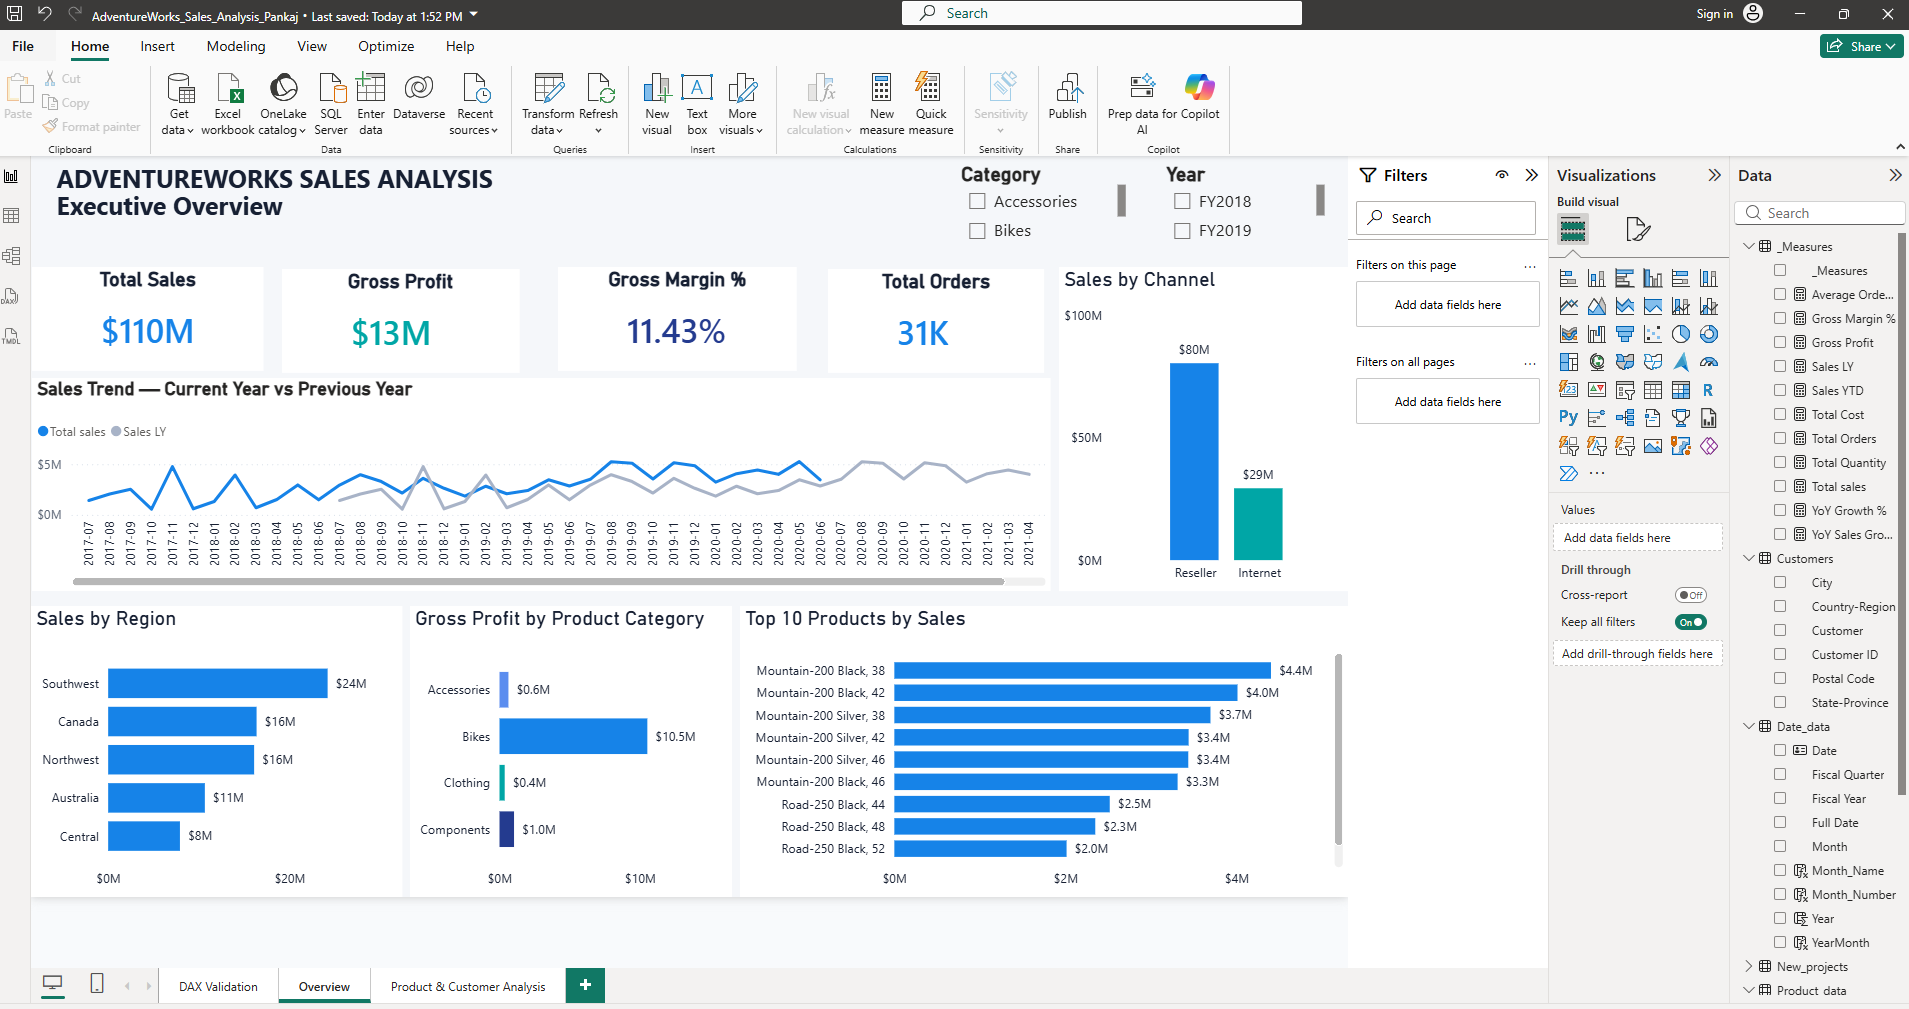

This screenshot's page, from the dashboard's own definition file:
{"tool":"powerbi","page":{"name":"Overview","canvas":[1280,720],"ordinal":1},"visuals":[{"type":"textbox","box":[0,0,1279.7,101.2],"z":0},{"type":"cardVisual","title":"Total Sales","fields":{"Data":["_Measures.Total sales"]},"box":[1,107.9,225,101.1],"z":1000},{"type":"cardVisual","title":"Gross Profit","fields":{"Data":["_Measures.Gross Profit"]},"box":[244.3,110.2,230.7,101.1],"z":2000},{"type":"cardVisual","title":"Gross Margin %","fields":{"Data":["_Measures.Gross Margin %"]},"box":[512.2,107.9,231.8,101.1],"z":3000},{"type":"cardVisual","title":"Total Orders","fields":{"Data":["_Measures.Total Orders"]},"box":[774.6,109.8,210.2,101.1],"z":4000},{"type":"clusteredBarChart","title":"Sales by Region","fields":{"Category":["Sales Territory.Region"],"Y":["_Measures.Total sales"]},"box":[0,437.4,360.6,282.8],"z":5000},{"type":"clusteredColumnChart","title":"Sales by Channel","fields":{"Category":["Sales_data.Sales Channel"],"Y":["_Measures.Total sales"]},"box":[999.1,107.9,280.9,314.9],"z":6000},{"type":"clusteredBarChart","title":"Top 10 Products by Sales","fields":{"Category":["Product_data.Product"],"Y":["_Measures.Total sales"]},"box":[689.1,437.4,590.9,282.8],"z":7000},{"type":"slicer","title":"Year","fields":{"Values":["Date_data.Fiscal Year"]},"box":[1098.3,5.8,164.3,86.5],"z":8000},{"type":"slicer","title":" Category","fields":{"Values":["Product_data.Category"]},"box":[899,5.8,170.1,87.5],"z":9000},{"type":"lineChart","title":"Sales Trend — Current Year vs Previous Year","fields":{"Y":["_Measures.Total sales","_Measures.Sales LY"],"Category":["Date_data.YearMonth"]},"box":[1,215.8,990.4,207],"z":10000},{"type":"clusteredBarChart","title":"Gross Profit by Product Category","fields":{"Category":["Product_data.Category"],"Y":["_Measures.Gross Profit"]},"box":[368.4,437.2,313,282.8],"z":11000}]}

Visuals, with their boxes on the page's 1280x720 design canvas (x1, y1, x2, y2). These are canvas units, not pixel positions in the 1909x1009 screenshot, which may show the page scaled, cropped or inside an application window:
textbox: <box>0,0,1280,101</box>
"Total Sales" cardVisual: <box>1,108,226,209</box>
"Gross Profit" cardVisual: <box>244,110,475,211</box>
"Gross Margin %" cardVisual: <box>512,108,744,209</box>
"Total Orders" cardVisual: <box>775,110,985,211</box>
"Sales by Region" clusteredBarChart: <box>0,437,361,720</box>
"Sales by Channel" clusteredColumnChart: <box>999,108,1280,423</box>
"Top 10 Products by Sales" clusteredBarChart: <box>689,437,1280,720</box>
"Year" slicer: <box>1098,6,1263,92</box>
" Category" slicer: <box>899,6,1069,93</box>
"Sales Trend — Current Year vs Previous Year" lineChart: <box>1,216,991,423</box>
"Gross Profit by Product Category" clusteredBarChart: <box>368,437,681,720</box>
